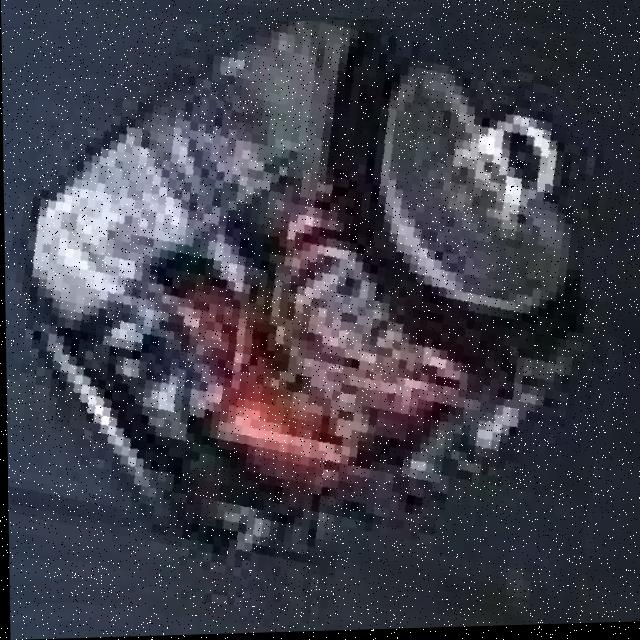litter: (3, 20, 624, 599)
